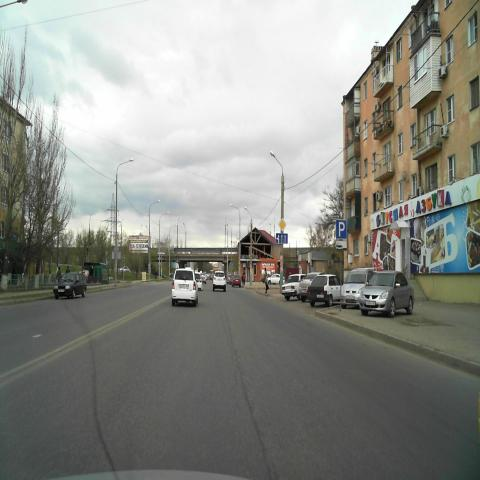2_1: (278, 218, 286, 232)
5_15_1: (276, 232, 287, 244)
6_4: (336, 219, 346, 238)
8_6_4: (336, 240, 346, 249)
